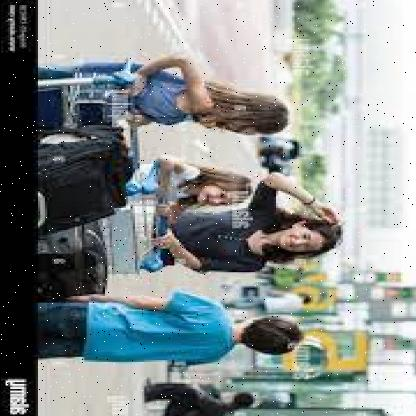airport-trolley: (37, 53, 145, 186)
